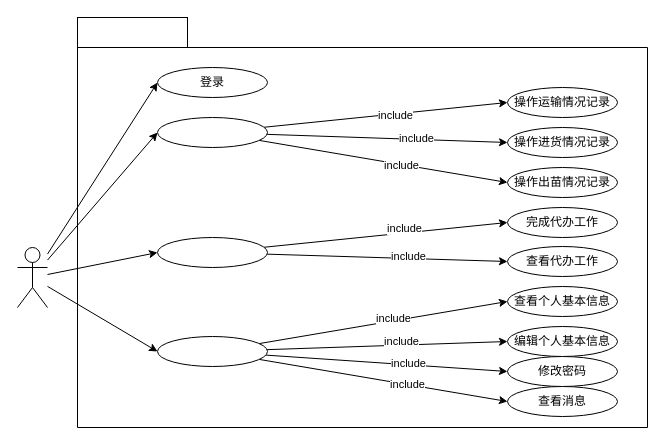
Some shapes in this 665 by 445 pixel diagram are drawn without their labels. The centre of each missing label's shape, as x and y in pixels:
"个人中心管理" goes at (212,351).
"司机" goes at (32,277).
"司机用例图" goes at (132,32).
"运输记录管理" goes at (212,132).
"首页管理" goes at (212,252).
